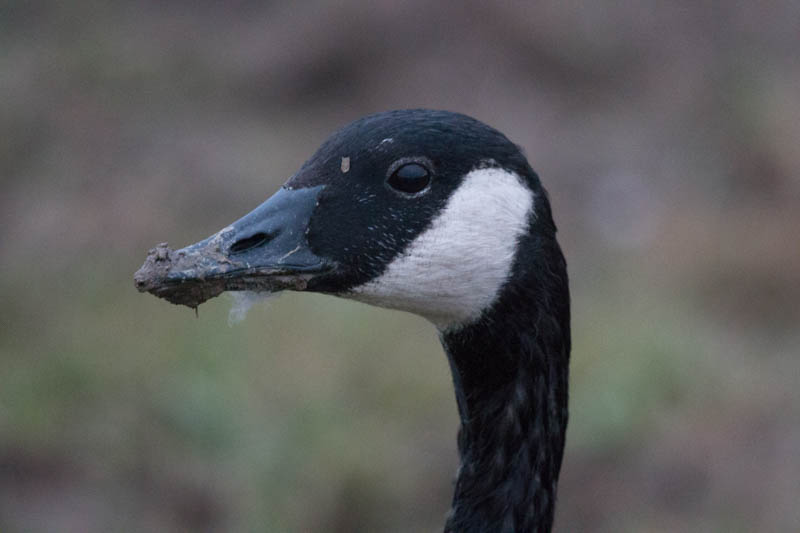goose-head: (132, 107, 572, 335)
